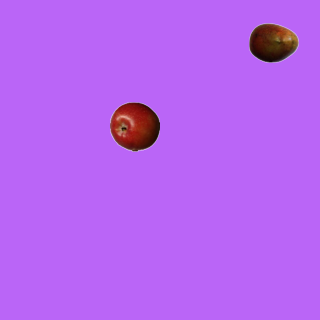Apple Braeburn: (109, 101, 159, 151)
Mango Red: (248, 17, 298, 67)
